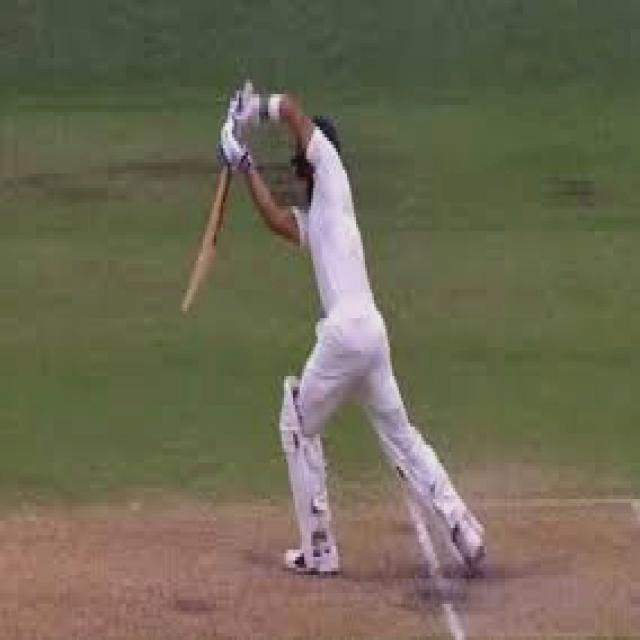toe: (174, 248, 209, 320)
